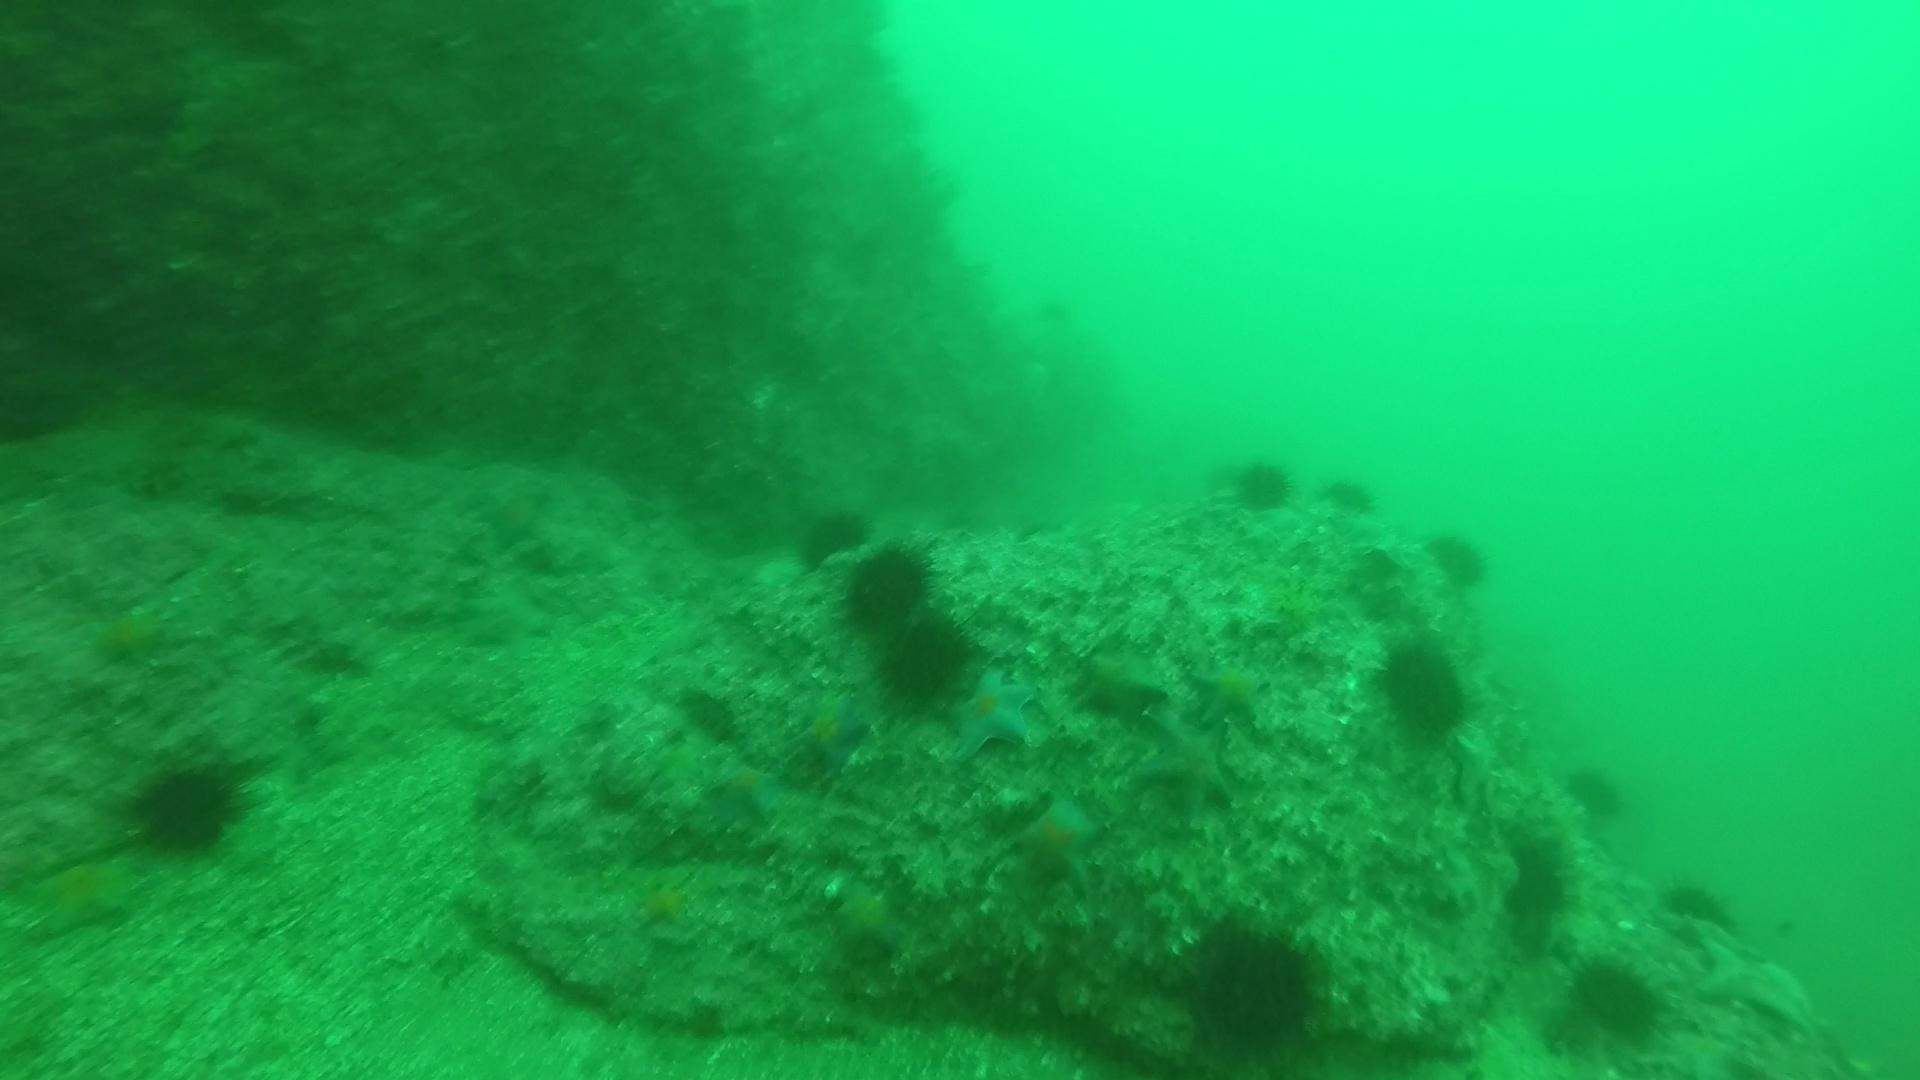echinus: (1182, 913, 1331, 1059), (123, 752, 253, 860), (1369, 633, 1476, 746), (1560, 951, 1669, 1048), (872, 611, 976, 712), (835, 537, 939, 632), (1494, 825, 1578, 938), (793, 502, 873, 574), (1656, 873, 1737, 935), (1422, 525, 1494, 593), (1224, 452, 1298, 516), (1560, 760, 1631, 824), (1030, 281, 1100, 340), (1320, 469, 1379, 520)
starfish: (1129, 694, 1245, 824), (1691, 927, 1822, 1036), (18, 848, 142, 942), (1005, 785, 1112, 887), (940, 662, 1046, 761), (820, 865, 915, 963), (1067, 640, 1171, 728), (698, 752, 791, 829), (789, 688, 874, 771), (1437, 731, 1526, 808), (1185, 651, 1275, 728), (82, 600, 178, 671), (1646, 1023, 1749, 1080), (626, 872, 702, 934)
